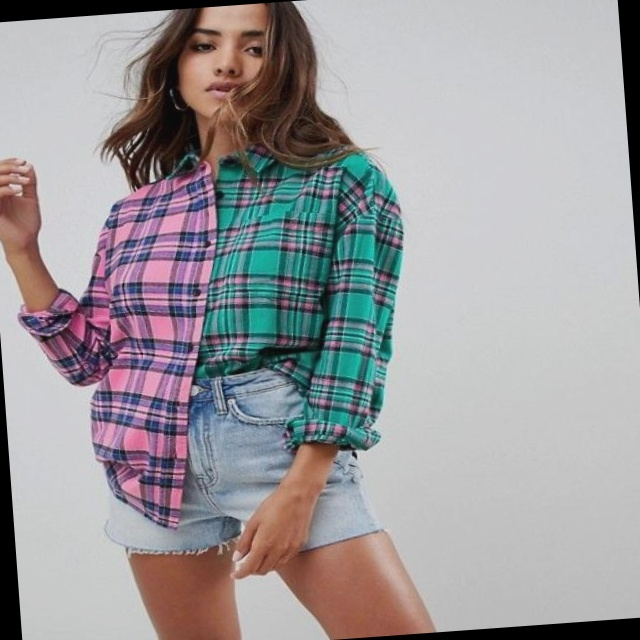Shorts: (97, 353, 439, 640)
